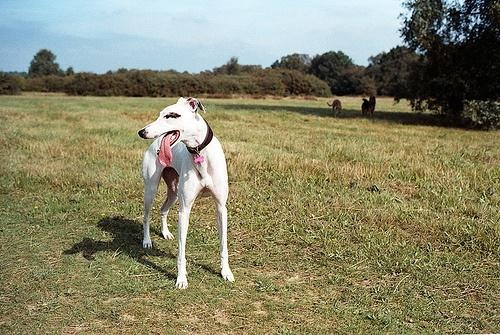dog: (137, 97, 237, 291)
